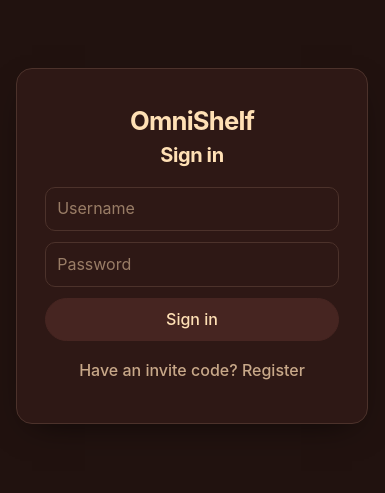
Scenario: register form › requires an invite code before submitting
Click the button "Have an invite code? Register".
click(192, 370)  # box 70,349 -> 314,391
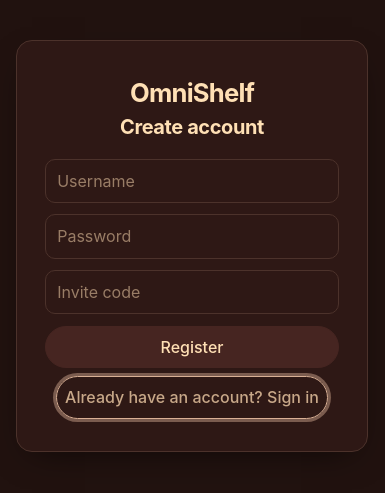
Type "newuser" into the field labelled "Username".
click(192, 181); type("newuser")  # box 45,159 -> 339,203
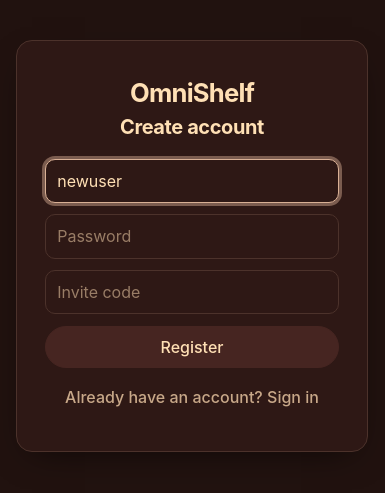
Type "hunter22" into the password field labelled "Password".
click(192, 237); type("hunter22")  # box 45,214 -> 339,259
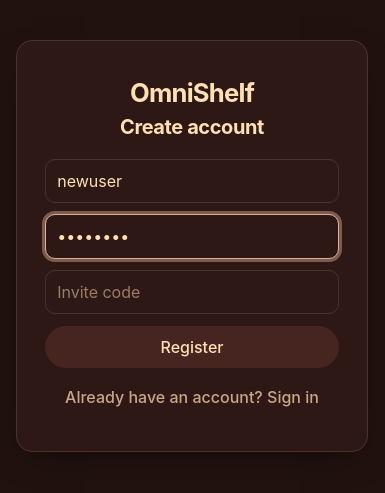
Click the button "Register".
click(192, 347)  # box 45,326 -> 339,368
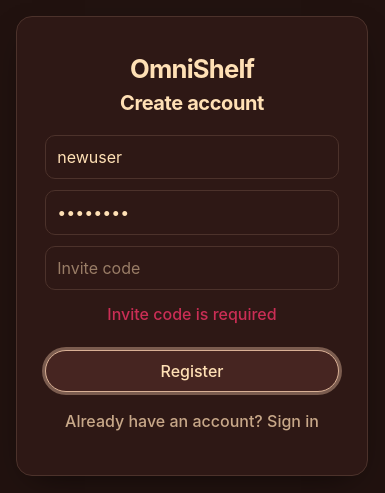
expect the message reads "Invite code is required": met, box 107,304 -> 277,324
